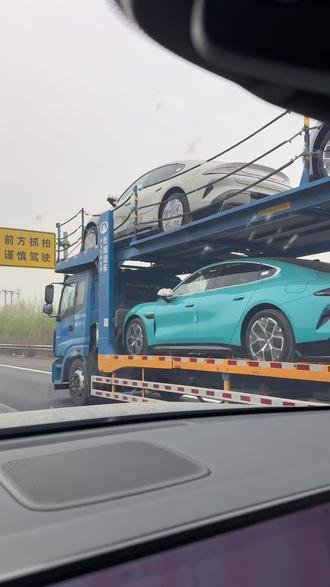su7: (113, 263, 330, 361), (65, 163, 294, 236)
